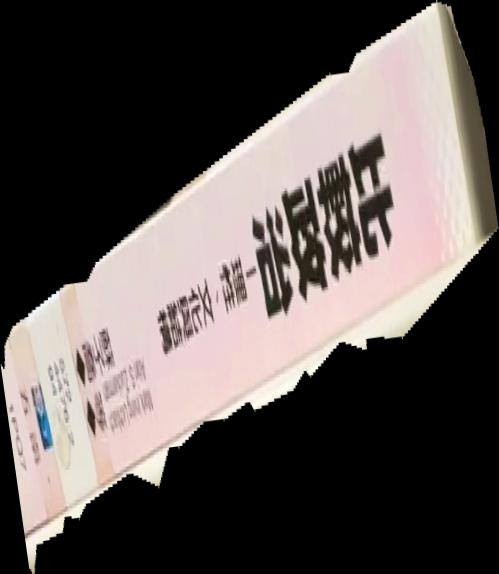flat: (1, 1, 499, 574)
